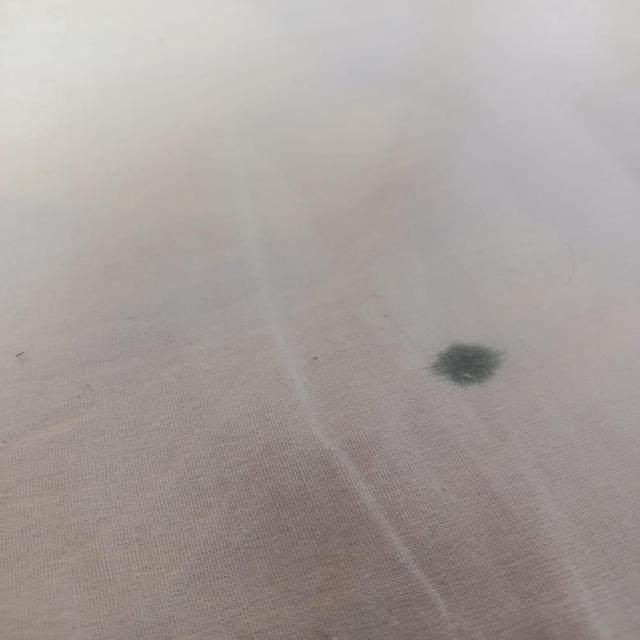stain: (423, 337, 512, 388)
